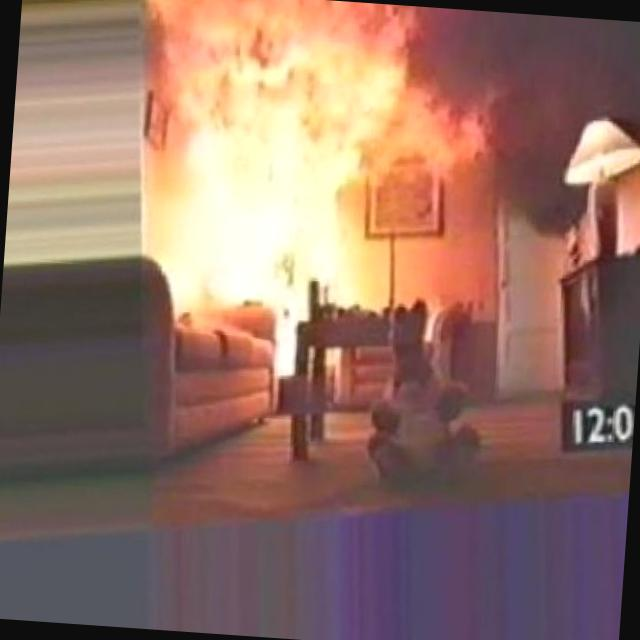fire: (126, 0, 485, 354)
smoke: (401, 10, 640, 231)
